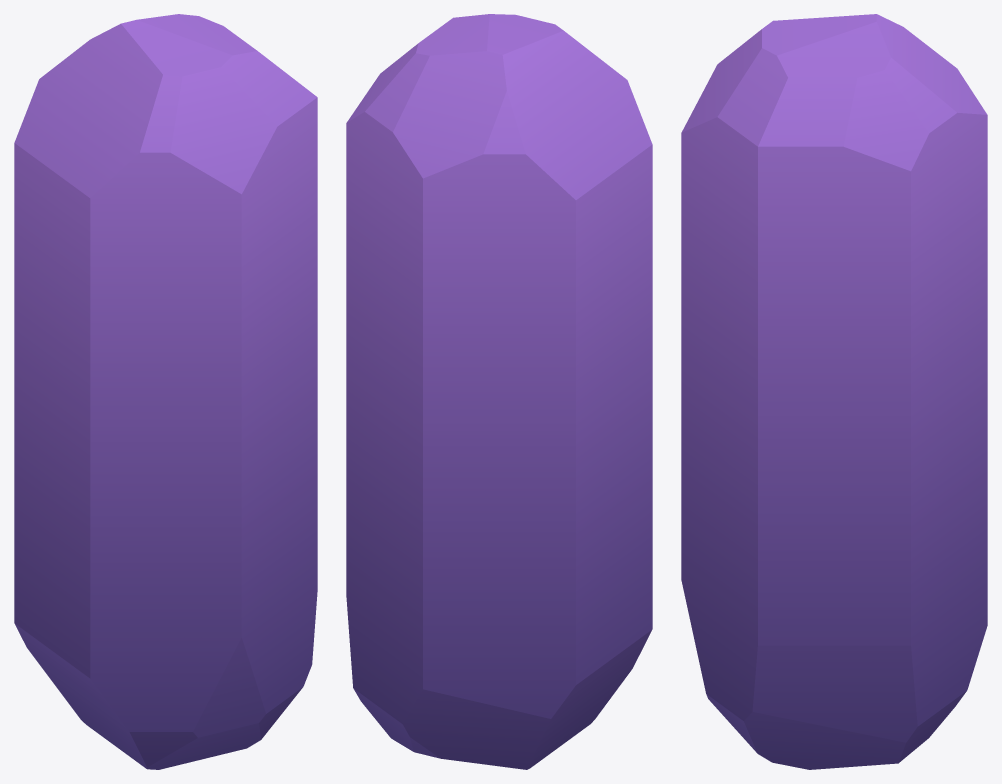
File: Crystal_P_15.glb
3 views of the same model, side by side, from view 1: azimuth 30°, elevation 25°; view 2: azimuth 150°, elevation 25°; view 3: azimuth 270°, elevation 25° (orthographic).
Visible parts, largest first — view 1: crystal_15; view 2: crystal_15; view 3: crystal_15.
Part boxes in pixels (<box>): crystal_15: <box>14,14,317,769</box>; crystal_15: <box>346,14,652,769</box>; crystal_15: <box>681,14,987,769</box>.
Size of the model in its own units: 0.3339 by 1 by 0.3855.
1 material, 1 textured.
